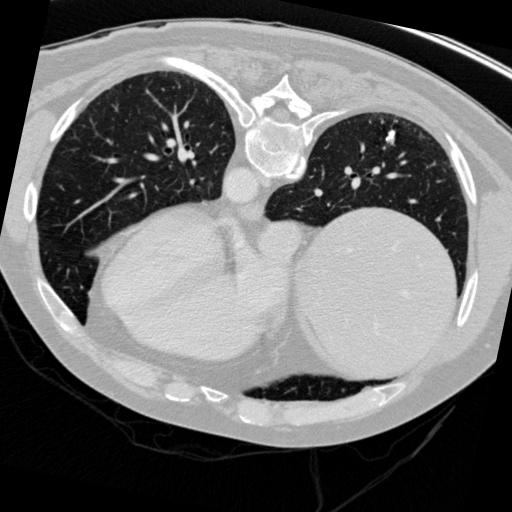nodule: (384, 129, 401, 146)
